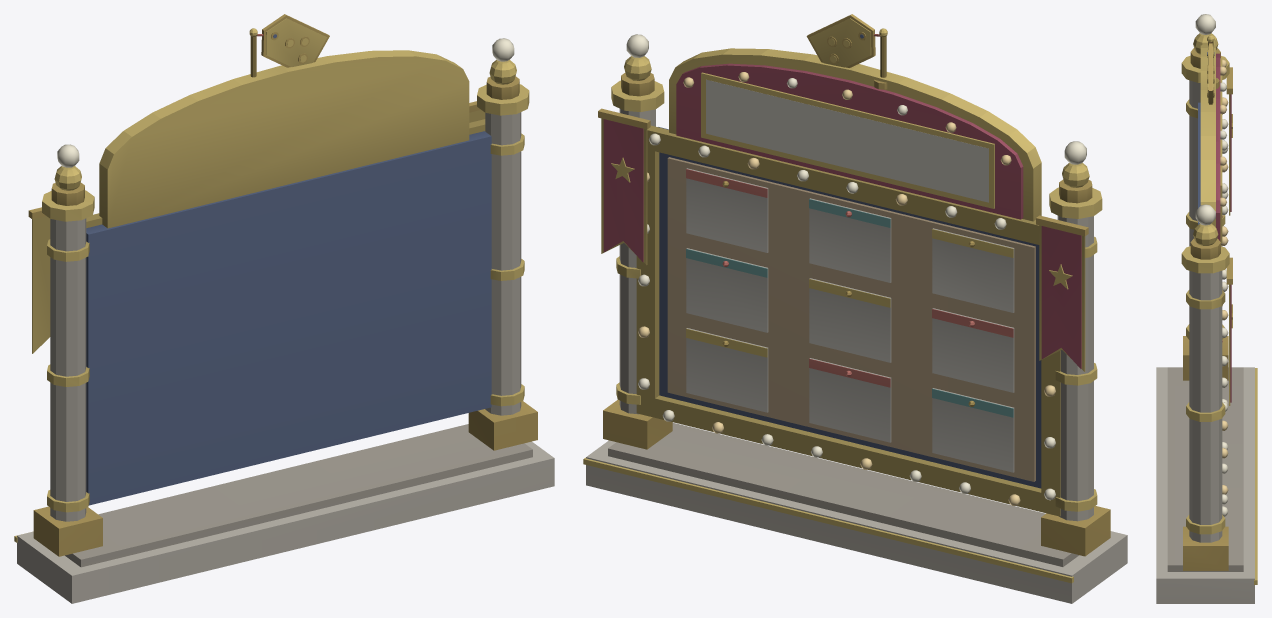
The model's file is auction_board_low.glb.
The picture shows the model from 3 angles, left to right: view 1: azimuth 30°, elevation 25°; view 2: azimuth 150°, elevation 25°; view 3: azimuth 270°, elevation 25°; orthographic projection. The views are drawn at different scales.
Visible parts, largest first — view 1: auction_board; view 2: auction_board; view 3: auction_board.
Part boxes in pixels (<box>): auction_board: <box>14,14,554,603</box>; auction_board: <box>583,14,1127,603</box>; auction_board: <box>1156,14,1257,603</box>.
Bounding box in the file's own units: 3.97 × 3.97 × 0.8.
